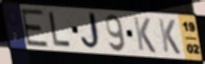9: (104, 13, 127, 53)
E: (20, 8, 51, 49)
J: (80, 12, 104, 52)
K: (132, 15, 157, 55), (157, 17, 182, 56)
L: (47, 10, 73, 48)
